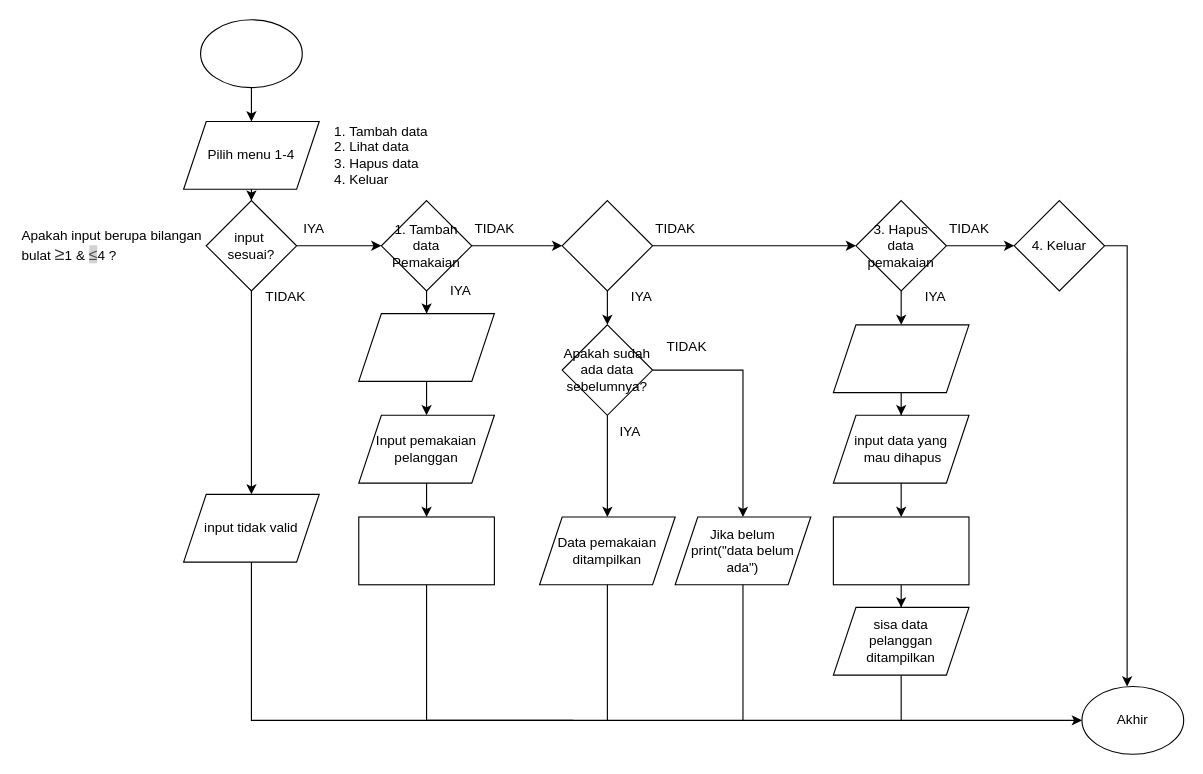
This 1203x774 diagram has some shape labels left out. The box of each missing label's shape, as (x1, y1, x2, y2) in pixels:
2. Lihat data pemakaian: (561, 199, 653, 291)
Awal: (199, 19, 302, 88)
Data pelanggan berhasil dihapus: (832, 516, 969, 585)
Data pelanggan berhasil ditambahkan & tagihan dihitung: (358, 516, 494, 585)
Input nama pelanggan: (358, 312, 494, 381)
menampilkan data yang sudah ada: (832, 324, 969, 393)
